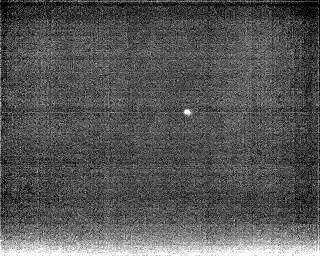AIRPLANE: (182, 106, 193, 118)
